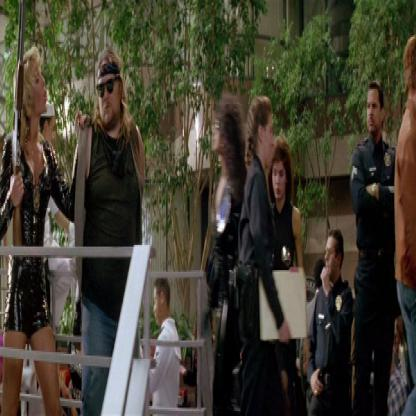Guns: (5, 0, 38, 262)
